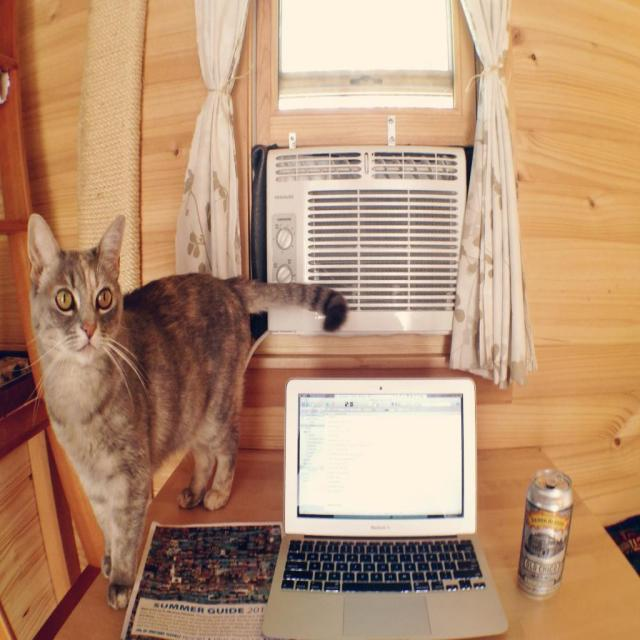Cat: (0, 206, 352, 621)
